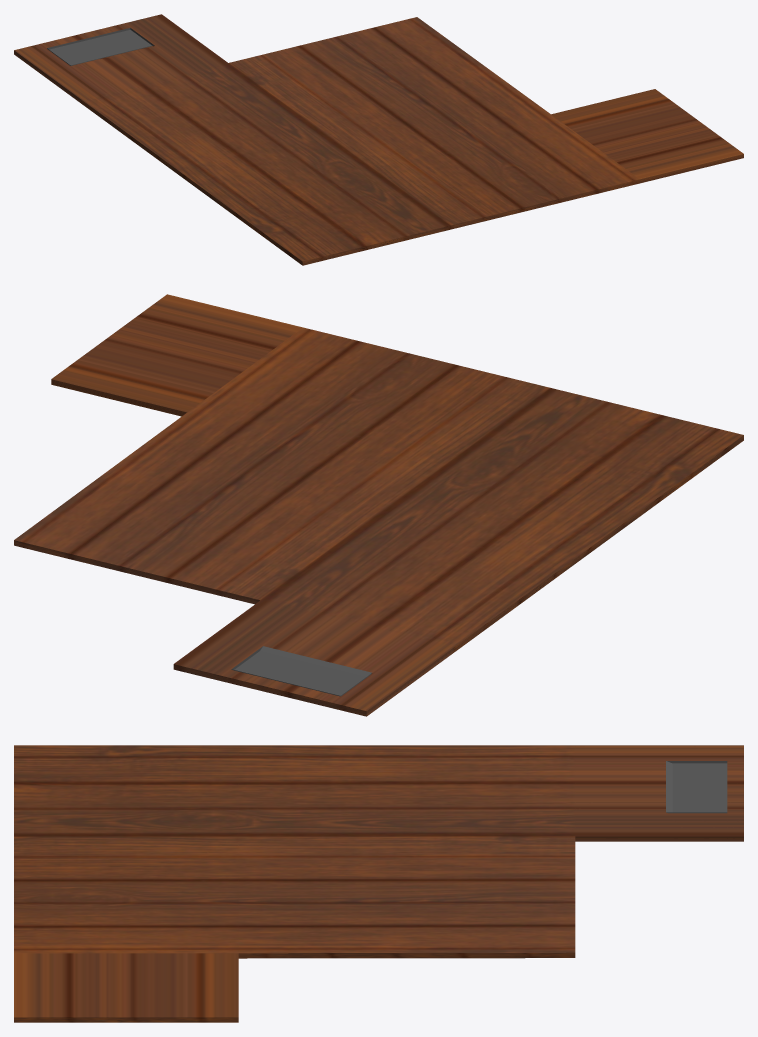
The model's file is Floor.fbx.
The picture shows the model from 3 angles, top to bottom: view 1: azimuth 30°, elevation 25°; view 2: azimuth 150°, elevation 25°; view 3: azimuth 270°, elevation 25°; orthographic projection. The views are drawn at different scales.
Visible parts, largest first — view 1: polySurface55; view 2: polySurface55; view 3: polySurface55.
Boxes of the visible parts, x1=… form: polySurface55: x1=14, y1=14, x2=743, y2=265; polySurface55: x1=14, y1=294, x2=743, y2=716; polySurface55: x1=14, y1=745, x2=743, y2=1022.
Bounding box in the file's own units: 110 × 1.11 × 125.
2 materials, 1 textured.
